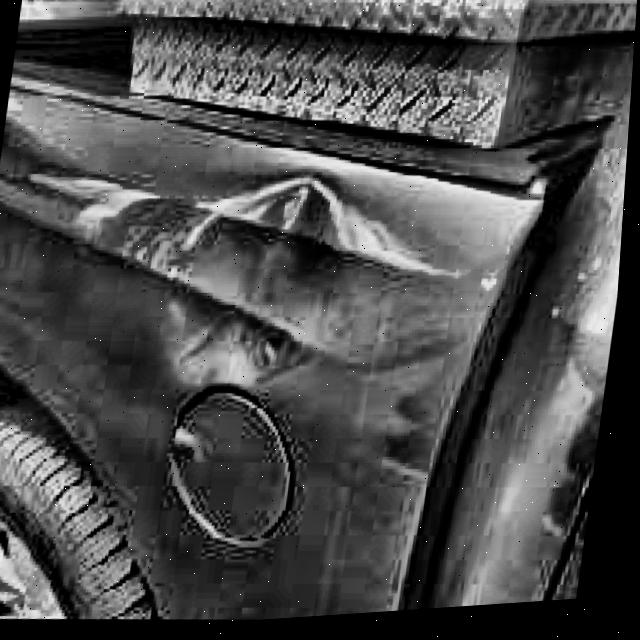door_dent: (140, 168, 371, 404)
